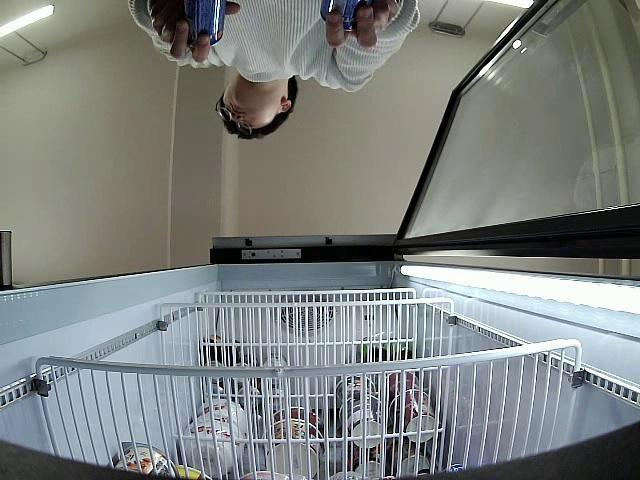16_hot6: (173, 0, 226, 47), (320, 0, 371, 33)
